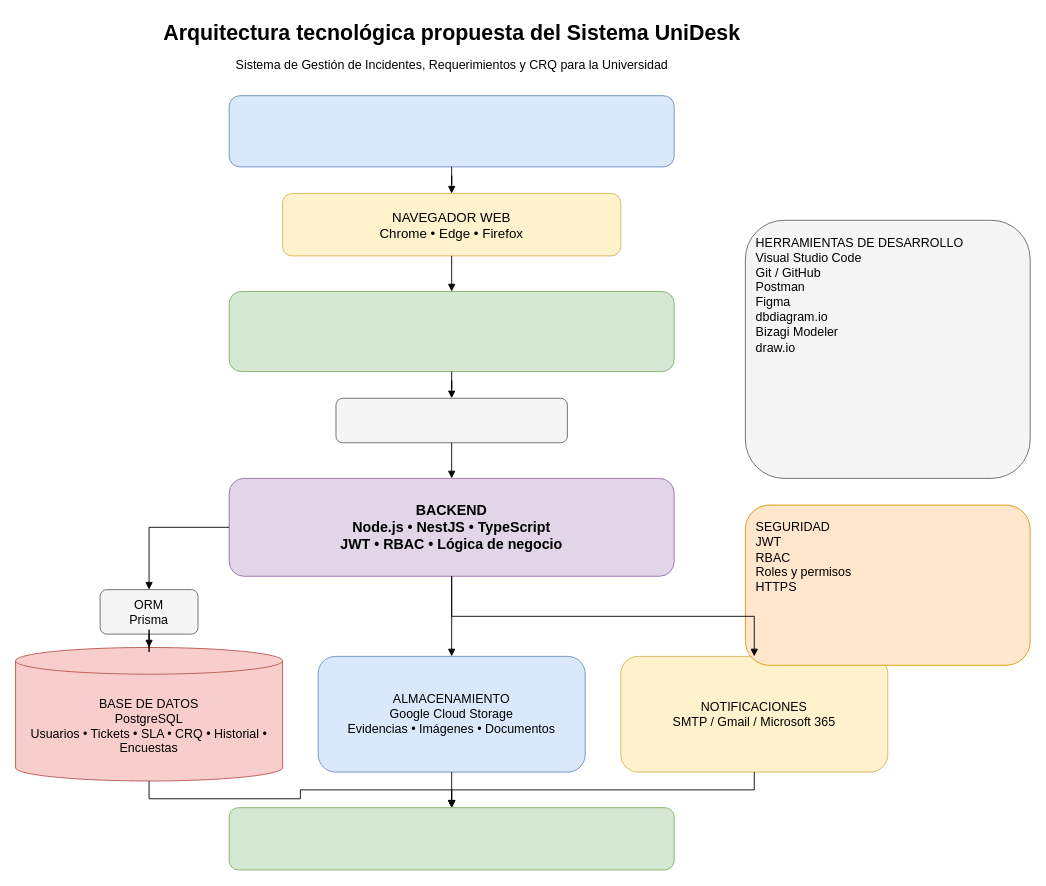
Image size: 1046x886. Some labels were removed from this diagram. Each missing label, with the centre of its shape:
"FRONTEND Next.js • React • TypeScript • Tailwind CSS" belongs at [451,331].
"HTTPS / REST API" belongs at [451,420].
"INFRAESTRUCTURA Google Cloud / VPS / Servidor universitario" belongs at [451,838].
"USUARIOS Estudiantes • Docentes • Administrativos • Soporte TI" belongs at [451,131].
